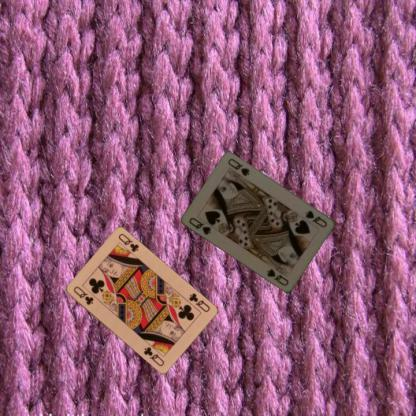Qc: (70, 284, 95, 306), (186, 291, 211, 313)
Qs: (303, 207, 329, 229), (186, 215, 212, 236)
